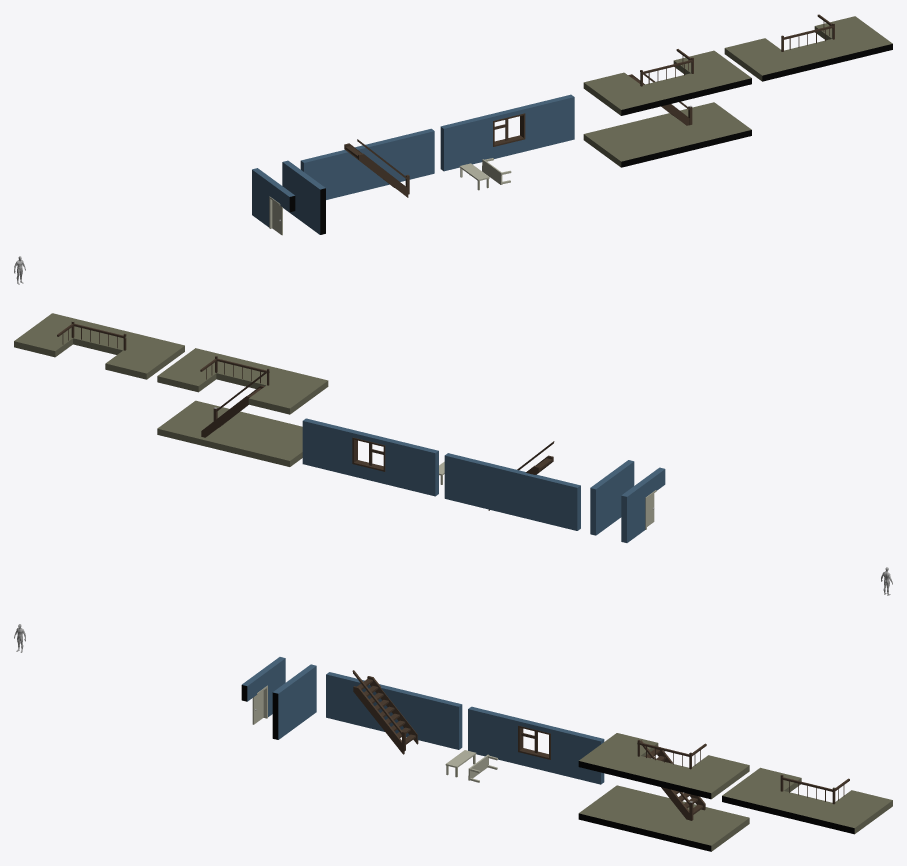
File: _onstructor.fbx
The picture shows the model from 3 angles, top to bottom: view 1: azimuth 30°, elevation 25°; view 2: azimuth 150°, elevation 25°; view 3: azimuth 330°, elevation 25°; orthographic projection.
Visible parts, largest first — view 1: backWallWindowRef, floorWithLedderRef, floorRef, floorLedderRef, backWallRef, sideWallRef, sidewallPassageRef, ledderRef; view 2: backWallRef, backWallWindowRef, floorWithLedderRef, floorLedderRef, floorRef, sideWallRef, sidewallPassageRef; view 3: floorWithLedderRef, floorRef, floorLedderRef, backWallWindowRef, backWallRef, sideWallRef, ledderRef, sidewallPassageRef.
Boxes of the visible parts, box(x1,y1,x2,y2) form: backWallWindowRef: box(440, 94, 574, 171); floorWithLedderRef: box(583, 49, 751, 125); floorRef: box(583, 102, 751, 167); floorLedderRef: box(724, 14, 892, 81); backWallRef: box(300, 128, 434, 199); sideWallRef: box(282, 160, 325, 234); sidewallPassageRef: box(252, 168, 295, 228); ledderRef: box(344, 139, 409, 197); backWallRef: box(444, 453, 580, 530); backWallWindowRef: box(302, 418, 438, 496); floorWithLedderRef: box(157, 348, 328, 437); floorLedderRef: box(14, 313, 184, 379); floorRef: box(157, 400, 302, 466); sideWallRef: box(590, 460, 634, 535); sidewallPassageRef: box(621, 467, 665, 542); floorWithLedderRef: box(578, 733, 749, 820); floorRef: box(578, 785, 749, 851); floorLedderRef: box(722, 767, 892, 834); backWallWindowRef: box(468, 706, 604, 784); backWallRef: box(326, 672, 462, 749); sideWallRef: box(272, 664, 316, 739); ledderRef: box(352, 670, 418, 754); sidewallPassageRef: box(241, 657, 285, 718).
Size of the model in its own units: 58.74 by 4.83 by 4.55.
